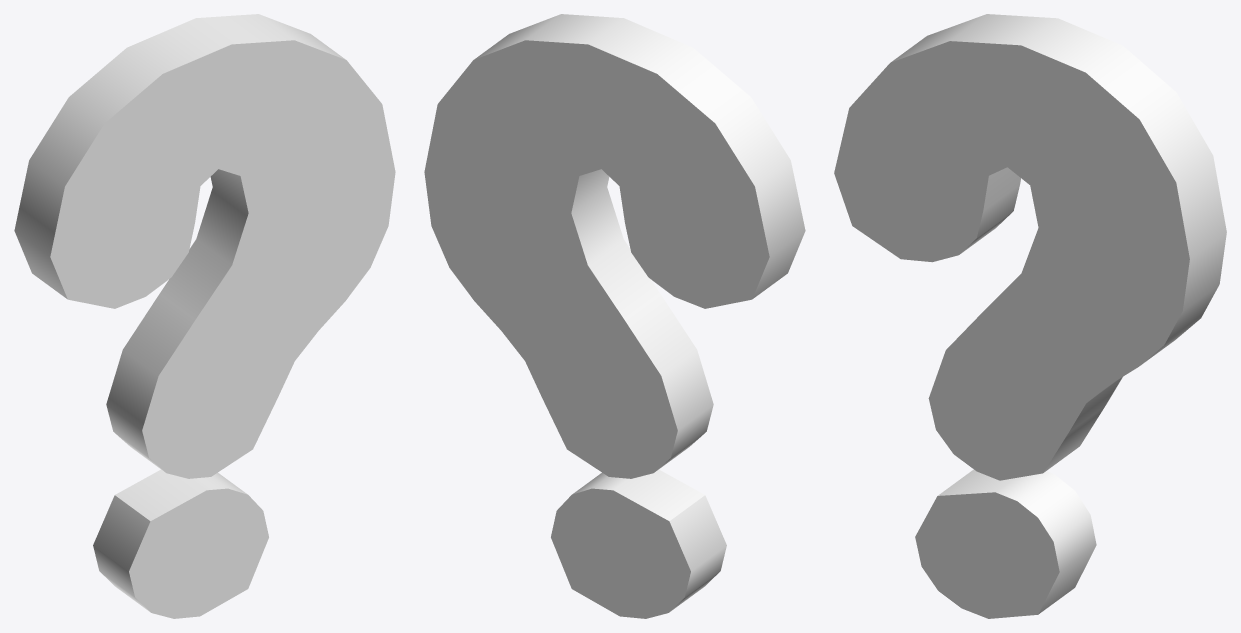
The model's file is Question Mark_3.fbx.
The picture shows the model from 3 angles, left to right: view 1: azimuth 30°, elevation 25°; view 2: azimuth 150°, elevation 25°; view 3: azimuth 330°, elevation 25°; orthographic projection. The views are drawn at different scales.
Parts seen in each view (by area): view 1: Question Mark_3; view 2: Question Mark_3; view 3: Question Mark_3.
Part boxes in pixels (x1,y1,x2,y2): Question Mark_3: [14, 14, 395, 618]; Question Mark_3: [424, 14, 805, 618]; Question Mark_3: [834, 14, 1226, 618].
Bounding box in the file's own units: 0.1104 × 0.1723 × 0.0199.
